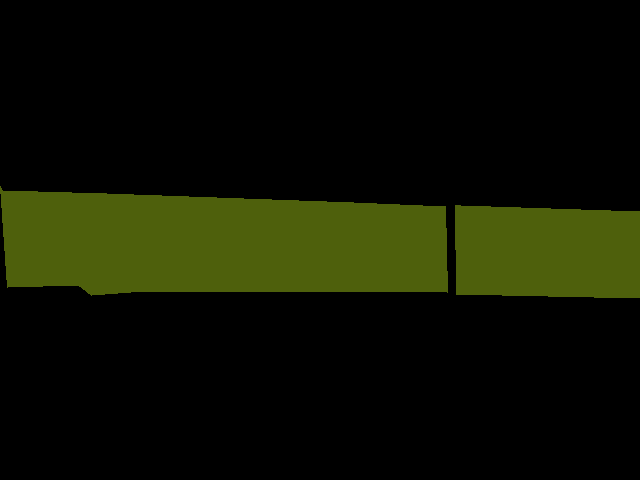Train: (0, 186, 640, 298)
